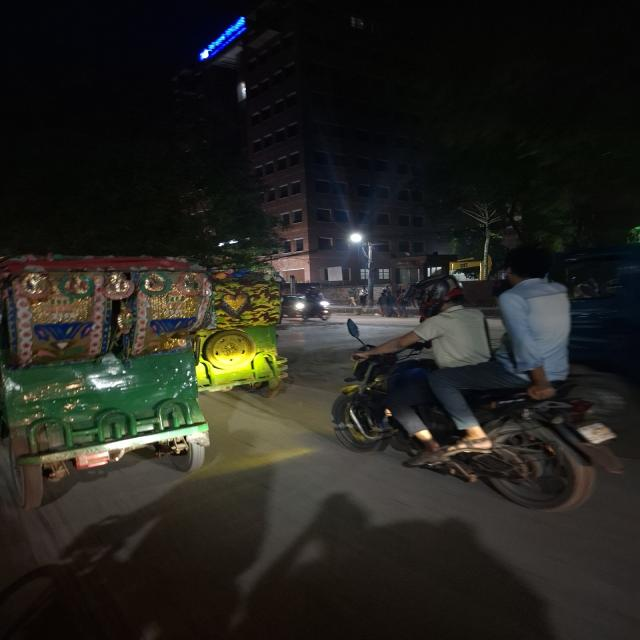motorcycle: (326, 256, 635, 518)
rickshaw: (0, 247, 213, 514), (192, 264, 294, 403)
